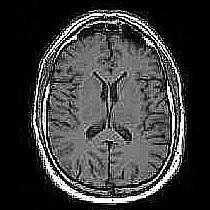Normal_Brain: (20, 1, 198, 210)
